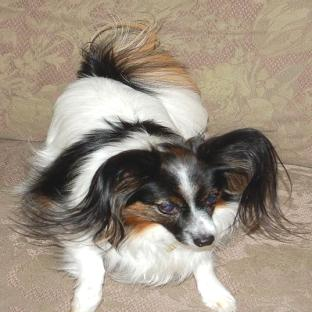Animal: (19, 22, 289, 311)
